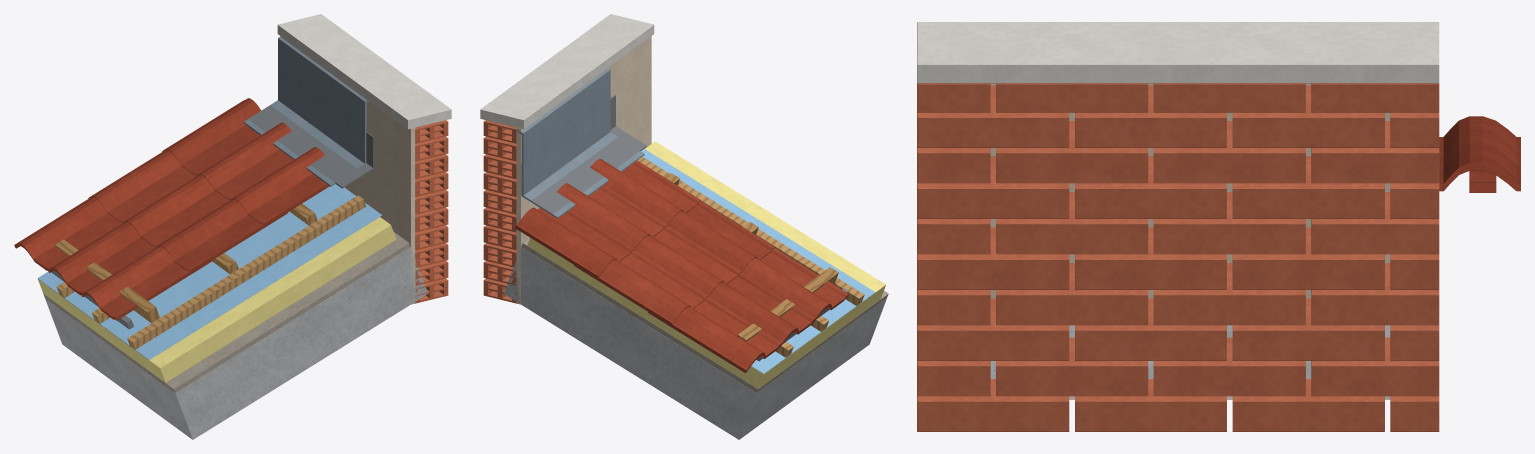
The model's file is detalle7_teja_mixta_paramento.glb.
The picture shows the model from 3 angles, left to right: view 1: azimuth 30°, elevation 25°; view 2: azimuth 150°, elevation 25°; view 3: azimuth 270°, elevation 25°; orthographic projection. The views are drawn at different scales.
Visible parts, largest first — view 1: D7_Teja_Mixta, D7_Forjado, D7_Muro_Enfoscado, D7_Lamina, D7_AT_XPS, D7_Babero_Zinc, D7_Muro_Bricks, D7_Regularizacion, D7_Contrarastreles, D7_Banda_Impermeable, D7_Rastreles; view 2: D7_Teja_Mixta, D7_Forjado, D7_Muro_Enfoscado, D7_Babero_Zinc, D7_AT_XPS, D7_Muro_Bricks, D7_Lamina, D7_Banda_Impermeable, D7_Contrarastreles, D7_Regularizacion, D7_Rastreles; view 3: D7_Muro_Bricks, D7_Muro_Enfoscado, D7_Teja_Mixta, D7_Forjado.
Boxes of the visible parts, <box> form: D7_Teja_Mixta: <box>14,98,329,320</box>; D7_Forjado: <box>45,247,427,439</box>; D7_Muro_Enfoscado: <box>277,14,451,304</box>; D7_Lamina: <box>37,184,382,359</box>; D7_AT_XPS: <box>38,217,396,382</box>; D7_Babero_Zinc: <box>243,36,367,186</box>; D7_Muro_Bricks: <box>415,120,448,303</box>; D7_Regularizacion: <box>43,231,410,393</box>; D7_Contrarastreles: <box>56,195,366,349</box>; D7_Banda_Impermeable: <box>248,105,373,188</box>; D7_Rastreles: <box>55,203,317,322</box>; D7_Teja_Mixta: <box>515,159,848,372</box>; D7_Forjado: <box>504,247,886,439</box>; D7_Muro_Enfoscado: <box>480,14,654,304</box>; D7_Babero_Zinc: <box>515,68,644,218</box>; D7_AT_XPS: <box>527,141,885,388</box>; D7_Muro_Bricks: <box>483,120,516,303</box>; D7_Lamina: <box>641,149,875,373</box>; D7_Banda_Impermeable: <box>521,95,646,214</box>; D7_Contrarastreles: <box>637,157,864,357</box>; D7_Regularizacion: <box>521,238,888,393</box>; D7_Rastreles: <box>665,173,838,341</box>; D7_Muro_Bricks: <box>917,83,1439,431</box>; D7_Muro_Enfoscado: <box>917,22,1439,399</box>; D7_Teja_Mixta: <box>1439,116,1520,192</box>; D7_Forjado: <box>990,325,1390,399</box>.
Bounding box in the file's own units: 1.23 × 1.08 × 1.11.
Materials: 14 (13 with a texture image).
